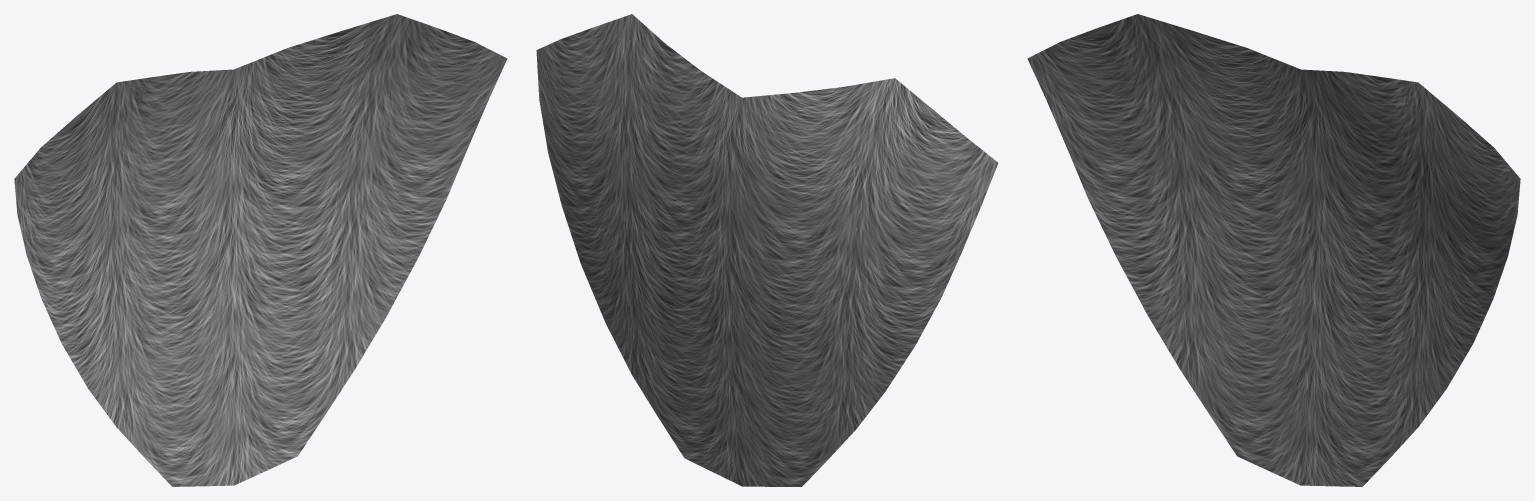
Rendered from clo_dunland_caerdh_pauldron_heavy_fur_c.fbx.
3 renders of one model, left to right at view 1: azimuth 30°, elevation 25°; view 2: azimuth 150°, elevation 25°; view 3: azimuth 330°, elevation 25°, orthographic. The views are drawn at different scales.
Parts seen in each view (by area): view 1: clo_dunland_caerdh_pauldron_heavy_fur_c; view 2: clo_dunland_caerdh_pauldron_heavy_fur_c; view 3: clo_dunland_caerdh_pauldron_heavy_fur_c.
Part boxes in pixels (x1,y1,x2,y2): clo_dunland_caerdh_pauldron_heavy_fur_c: [14, 14, 507, 486]; clo_dunland_caerdh_pauldron_heavy_fur_c: [536, 14, 998, 486]; clo_dunland_caerdh_pauldron_heavy_fur_c: [1027, 14, 1520, 486].
Size of the model in its own units: 0.4296 by 0.0541 by 0.3778.
